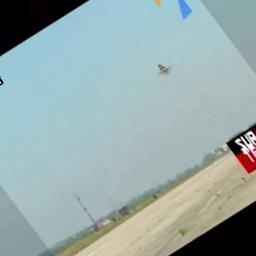Airplane: (155, 62, 175, 77)
